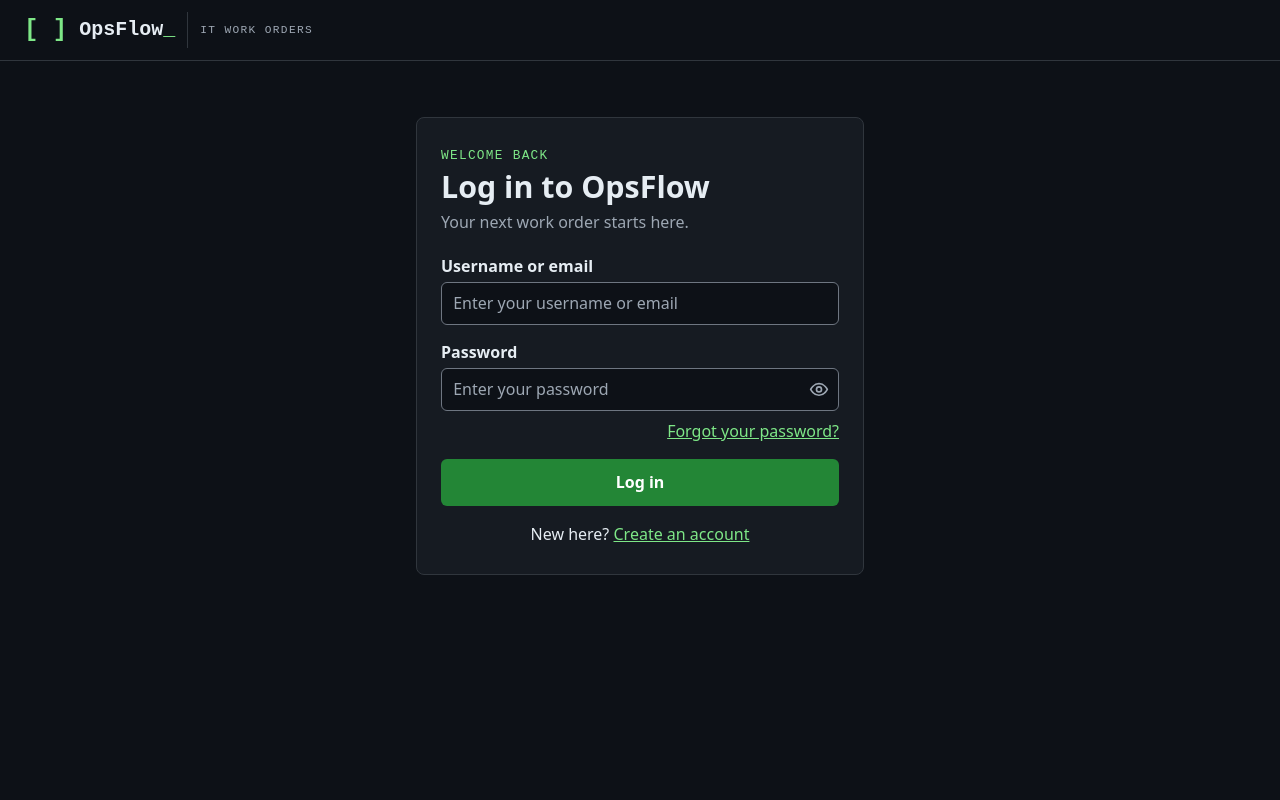
Scenario: web authentication screens › logs in, lands on the work orders, shows the user from /me, and logs out back to the login form
Type "jrivera" into the field labelled "Username or email" at (640, 304), box 441,282 -> 839,325
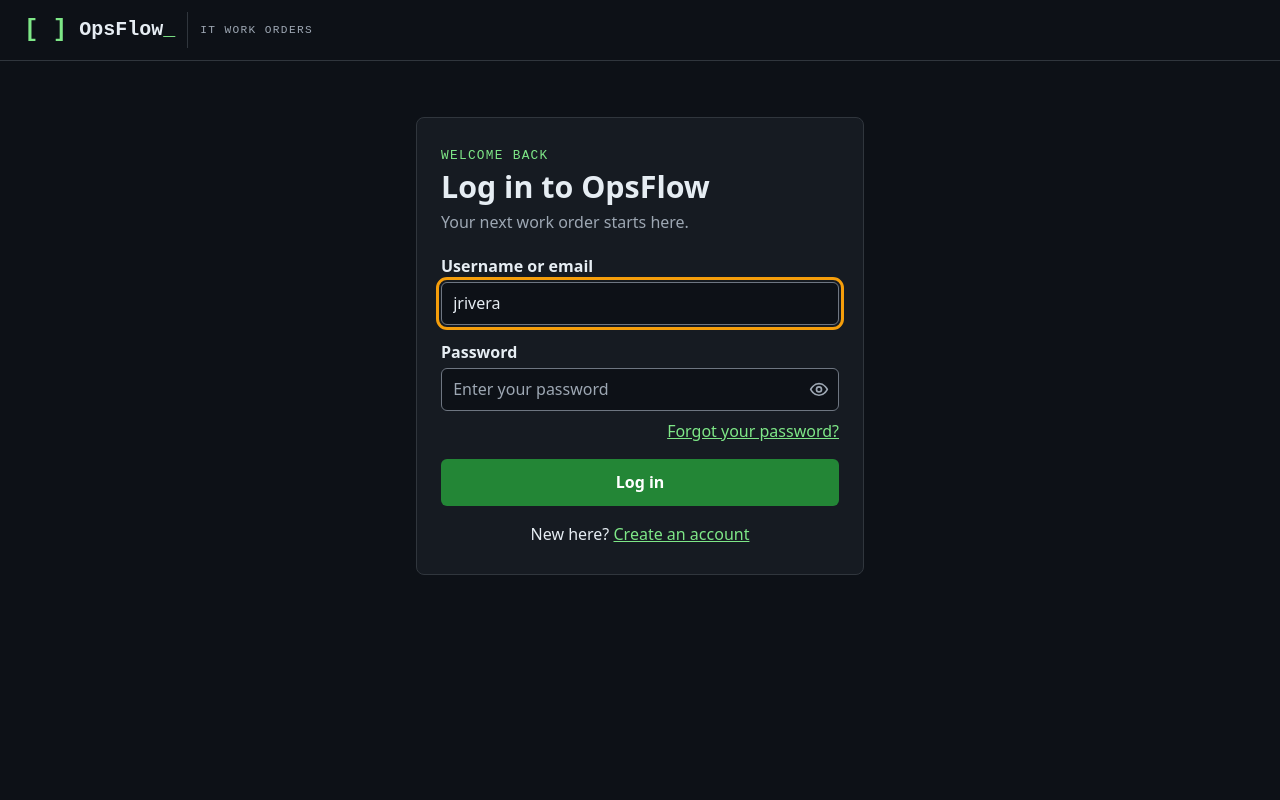
Type "Password123!" into the password field labelled "Password" at (640, 390), box 441,368 -> 839,411
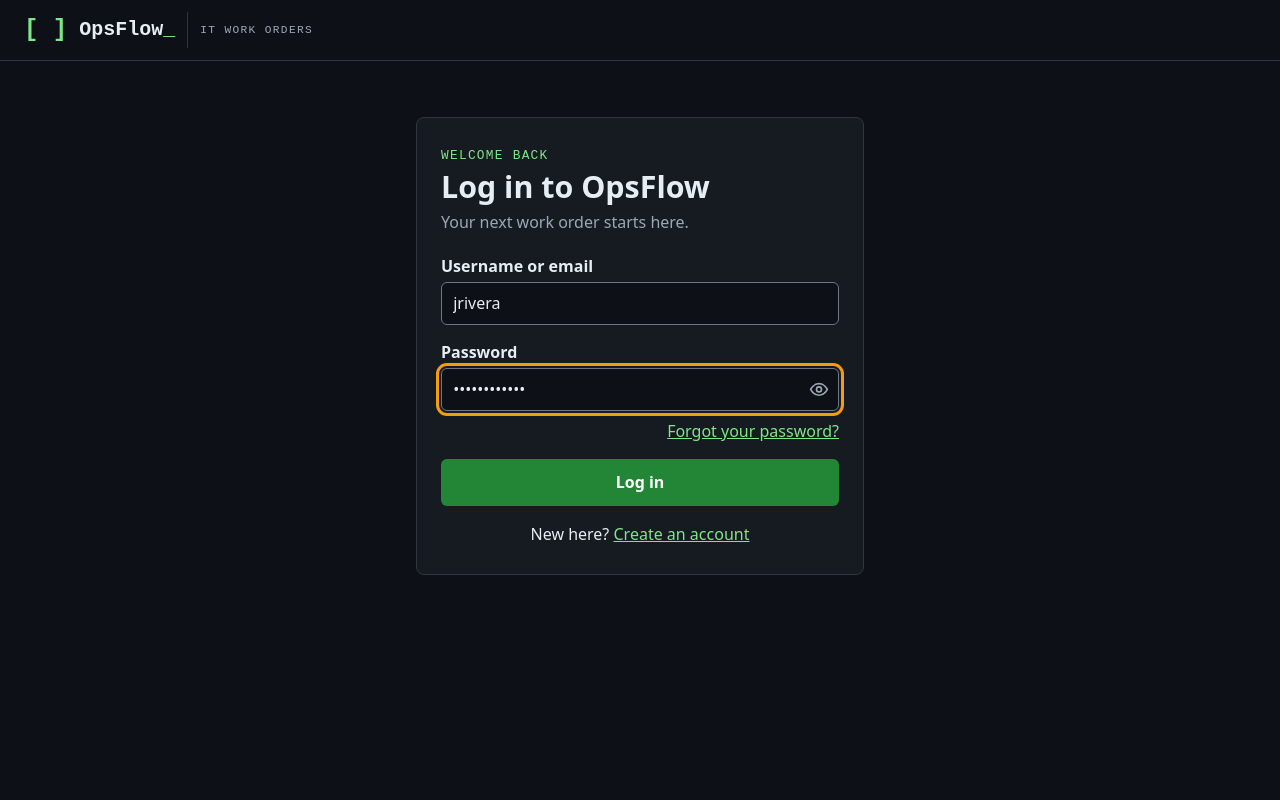
Click the button "Log in" at (640, 482), box 441,459 -> 839,506
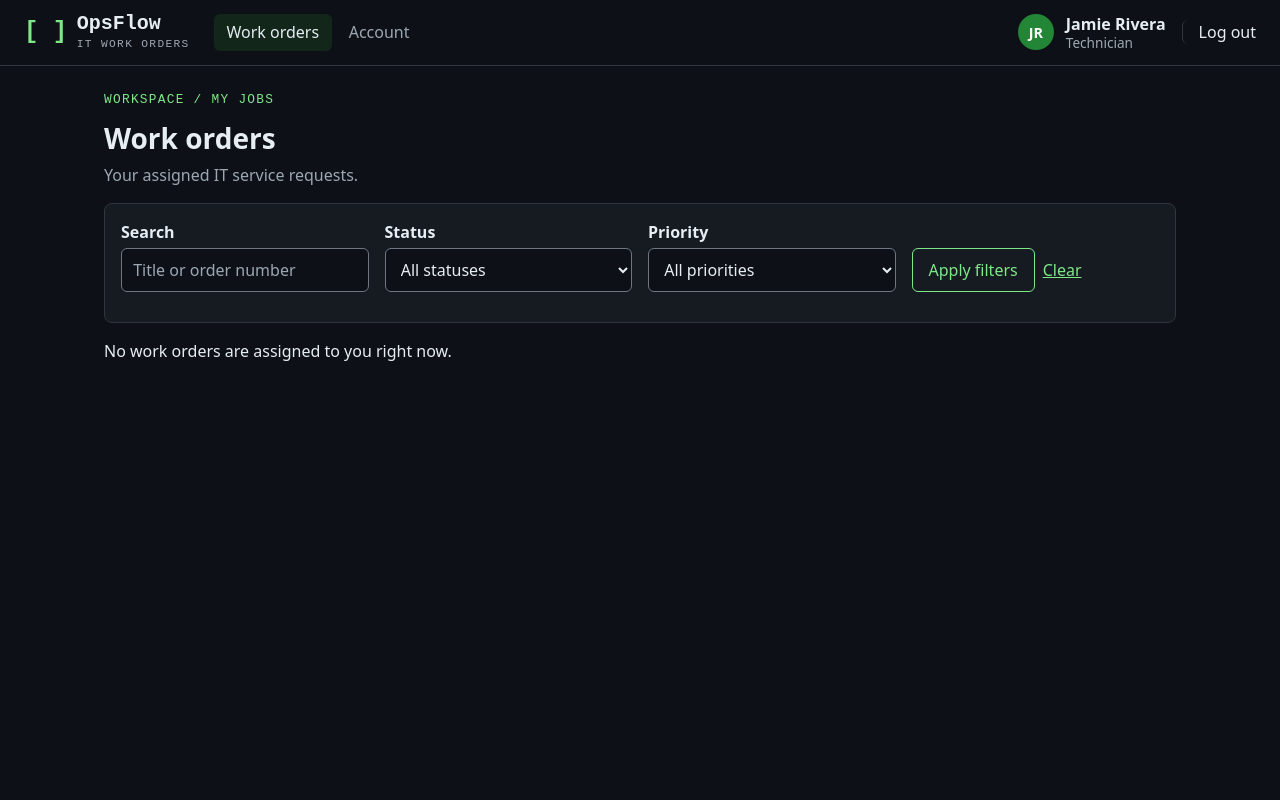
Check: the heading "Work orders" is shown, box 104,119 -> 276,157
Check: the text "Jamie Rivera" is shown, box 1066,14 -> 1166,34
Check: the text "Technician" is shown, box 1066,33 -> 1133,52
Click the link "Account" at (379, 32), box 349,21 -> 410,43
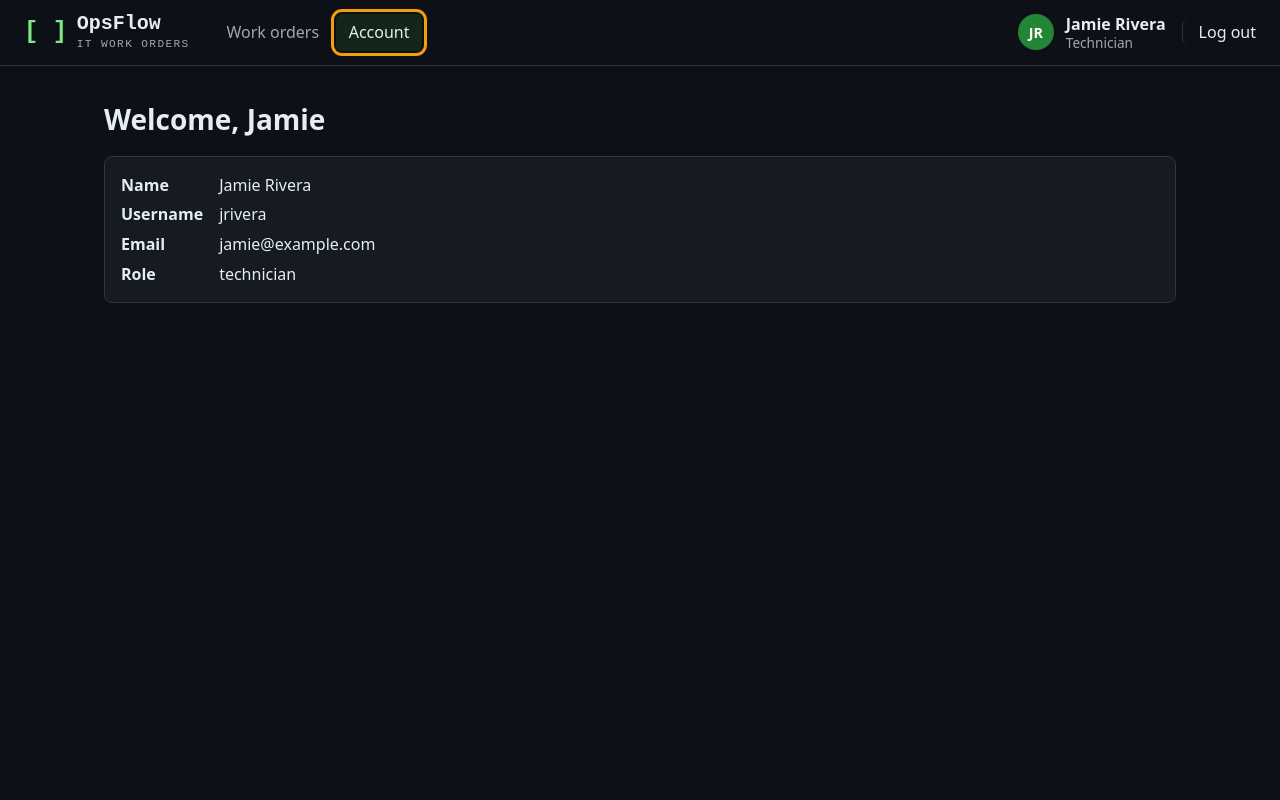
Check: the heading "Welcome, Jamie" is shown, box 104,100 -> 325,138
Check: the text "jamie@example.com" is shown, box 219,233 -> 375,255
Click the button "Log out" at (1219, 32), box 1182,20 -> 1256,44
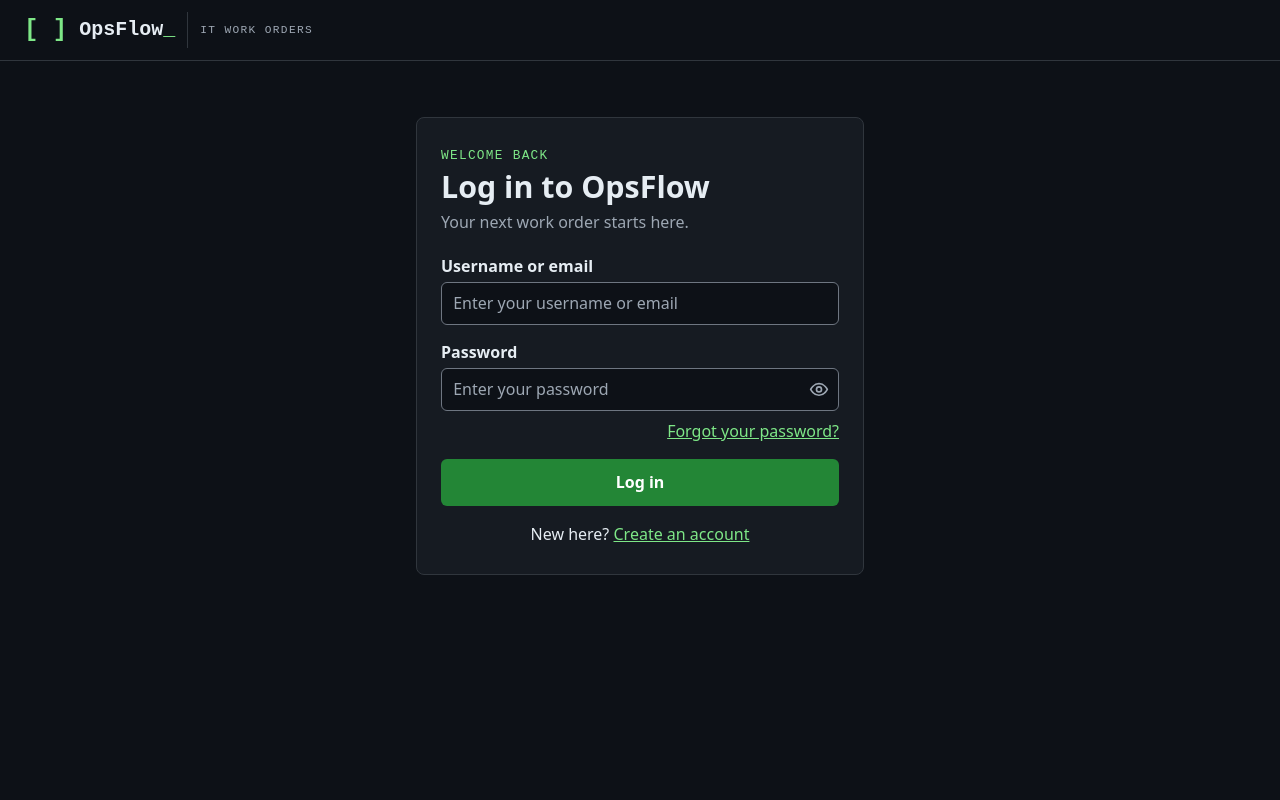
Check: the heading "Log in to OpsFlow" is shown, box 441,166 -> 710,207
